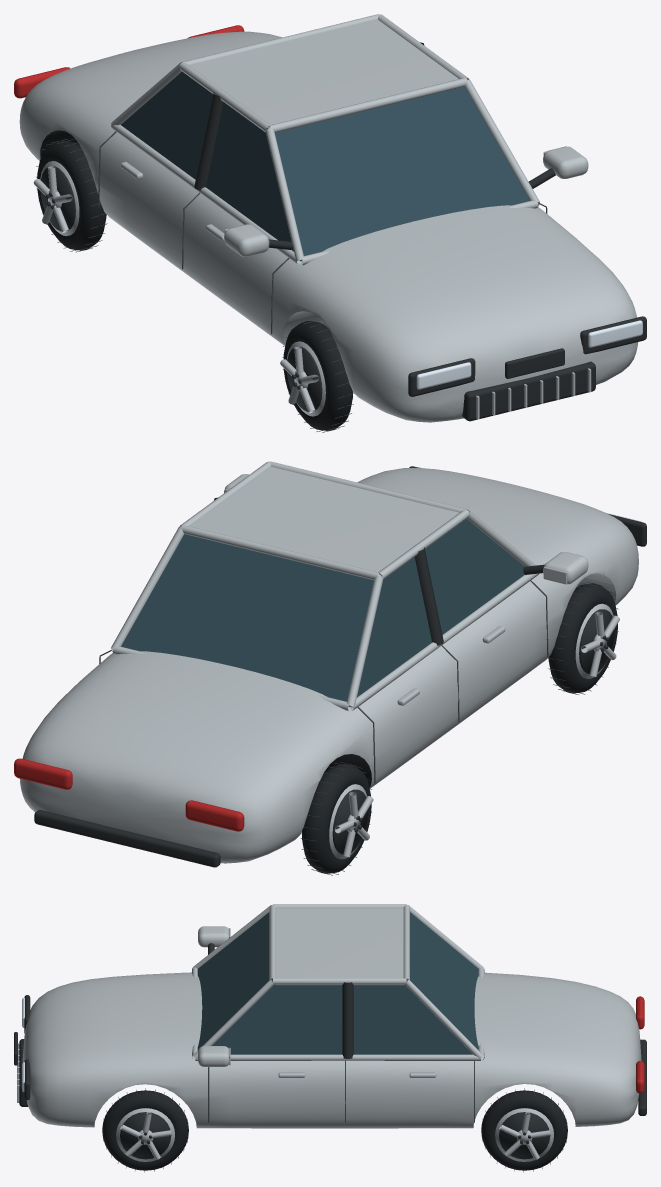
The model's file is vehicle-sedan-lod0.glb.
3 renders of one model, top to bottom at view 1: azimuth 30°, elevation 25°; view 2: azimuth 150°, elevation 25°; view 3: azimuth 270°, elevation 25°, orthographic. The views are drawn at different scales.
Parts seen in each view (by area): view 1: vehicle-sedan_MATERIAL_BATCH; view 2: vehicle-sedan_MATERIAL_BATCH; view 3: vehicle-sedan_MATERIAL_BATCH.
Boxes of the visible parts, <box> form: vehicle-sedan_MATERIAL_BATCH: <box>14,14,646,432</box>; vehicle-sedan_MATERIAL_BATCH: <box>14,461,646,875</box>; vehicle-sedan_MATERIAL_BATCH: <box>14,904,646,1172</box>.
Size of the model in its own units: 2.32 by 1.48 by 4.74.
